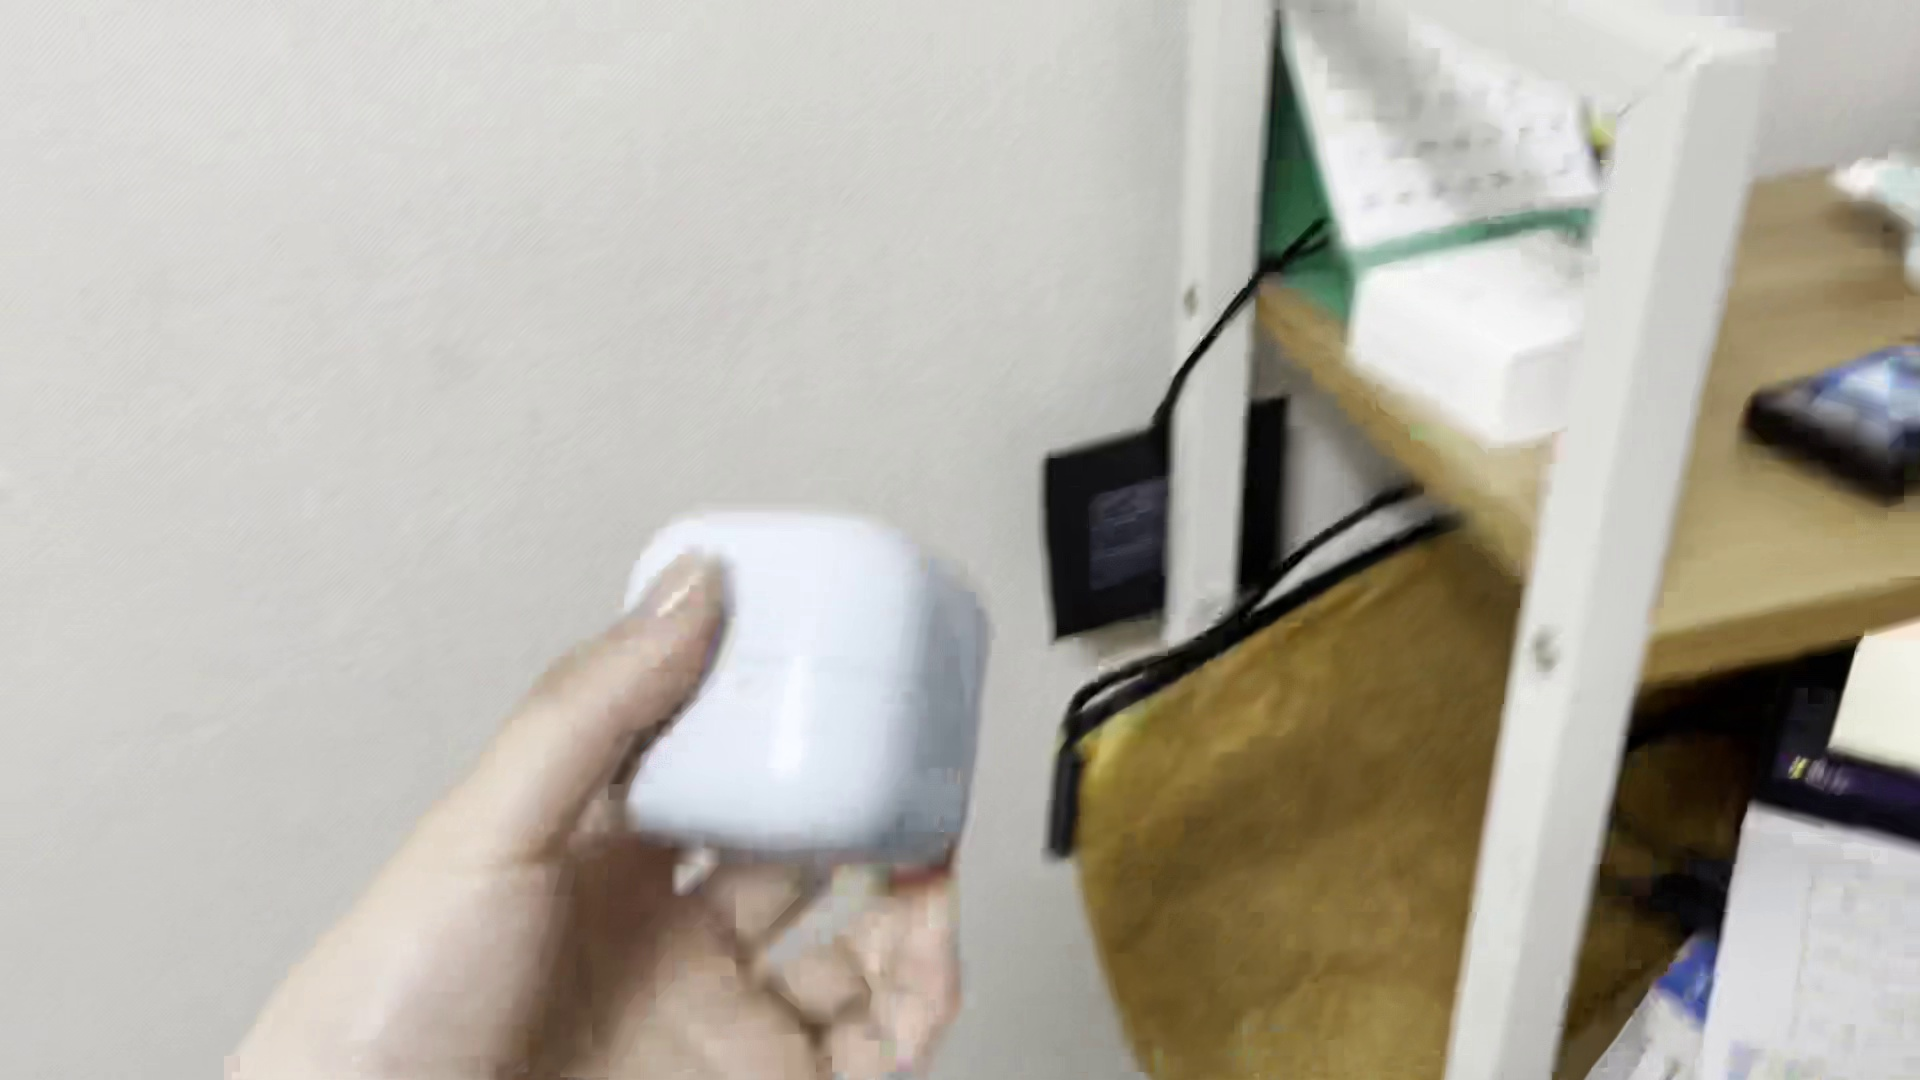cream: (628, 505, 996, 876)
